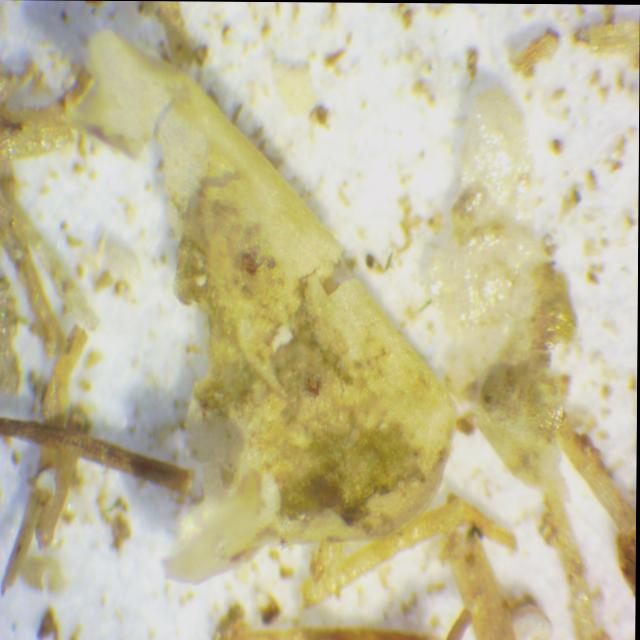microplastic: (77, 34, 455, 581), (440, 85, 576, 500)
